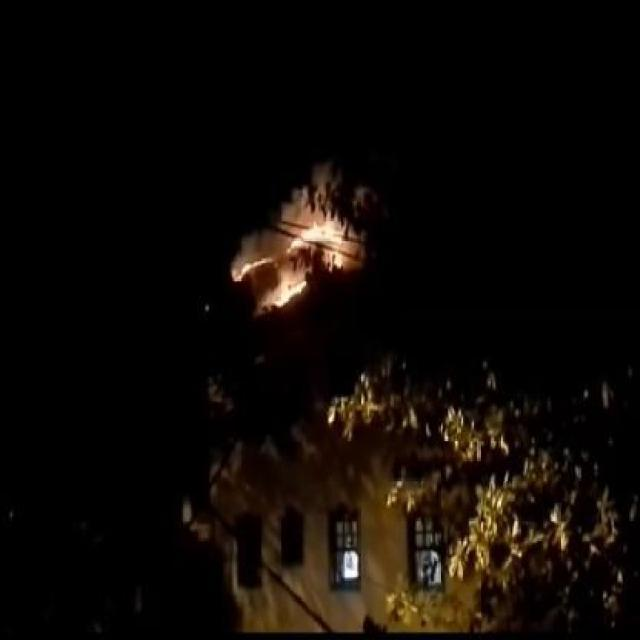Fire: (289, 224, 343, 252), (268, 280, 304, 308), (236, 256, 272, 278)
